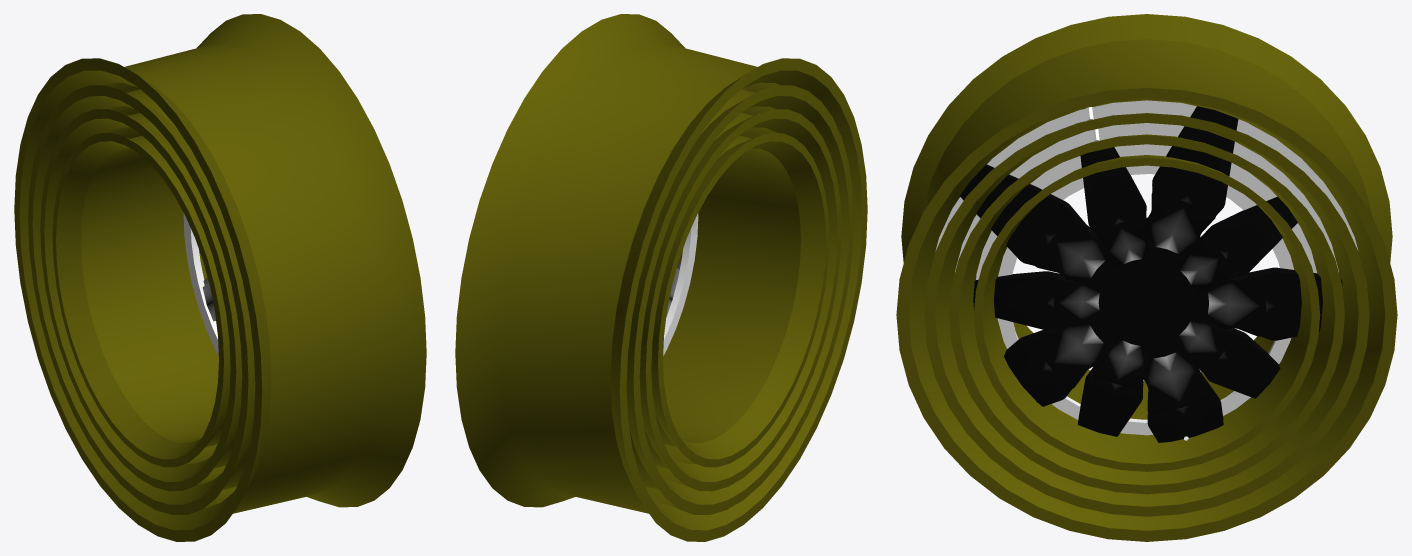
File: Rim_12.FBX
3 views of the same model, side by side, from view 1: azimuth 30°, elevation 25°; view 2: azimuth 150°, elevation 25°; view 3: azimuth 270°, elevation 25° (orthographic).
Parts seen in each view (by area): view 1: Rim_12_XL_InsideDetailed, Rim_12_S_Lod0, Rim_12_XL_Lod0, Rim_12_M_InsideDetailed, Rim_12_L_Lod0, Rim_12_L_InsideDetailed, Rim_12_S_InsideDetailed; view 2: Rim_12_XL_InsideDetailed, Rim_12_S_Lod0, Rim_12_XL_Lod0, Rim_12_M_InsideDetailed, Rim_12_L_Lod0, Rim_12_L_InsideDetailed, Rim_12_S_InsideDetailed; view 3: Rim_12_XL_Lod0, Rim_12_L_Lod0, Rim_12_M_InsideDetailed, Rim_12_S_Lod0, Rim_12_XL_InsideDetailed.
Boxes of the visible parts, x1,y1,x2,y2 form: Rim_12_XL_InsideDetailed: (124, 14, 426, 513); Rim_12_S_Lod0: (52, 133, 223, 467); Rim_12_XL_Lod0: (14, 58, 262, 541); Rim_12_M_InsideDetailed: (40, 109, 242, 491); Rim_12_L_Lod0: (28, 85, 248, 514); Rim_12_L_InsideDetailed: (126, 89, 255, 489); Rim_12_S_InsideDetailed: (126, 135, 230, 452); Rim_12_XL_InsideDetailed: (455, 14, 757, 513); Rim_12_S_Lod0: (658, 133, 829, 467); Rim_12_XL_Lod0: (619, 58, 867, 541); Rim_12_M_InsideDetailed: (639, 109, 841, 491); Rim_12_L_Lod0: (633, 85, 853, 514); Rim_12_L_InsideDetailed: (626, 89, 755, 489); Rim_12_S_InsideDetailed: (651, 135, 755, 452); Rim_12_XL_Lod0: (896, 88, 1397, 541); Rim_12_L_Lod0: (924, 113, 1369, 516); Rim_12_M_InsideDetailed: (949, 134, 1344, 494); Rim_12_S_Lod0: (973, 158, 1320, 471); Rim_12_XL_InsideDetailed: (901, 14, 1392, 262).
Size of what is drawn, in the model's own units: 633 by 1704 by 1704.
